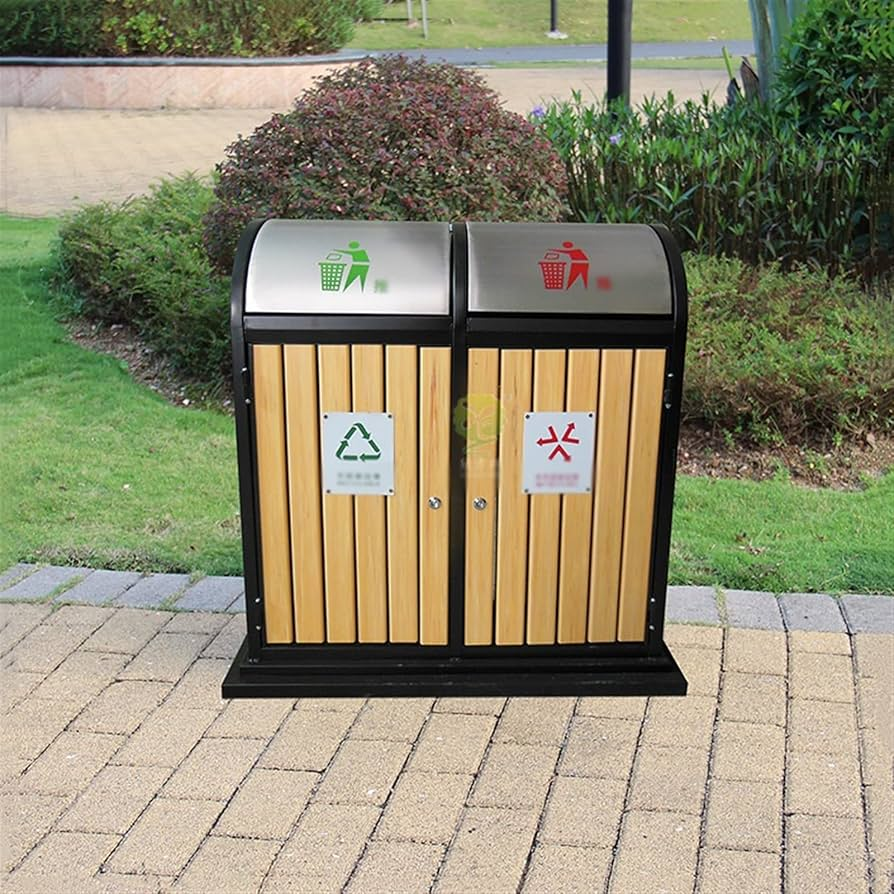TrashBin: (224, 203, 704, 721)
